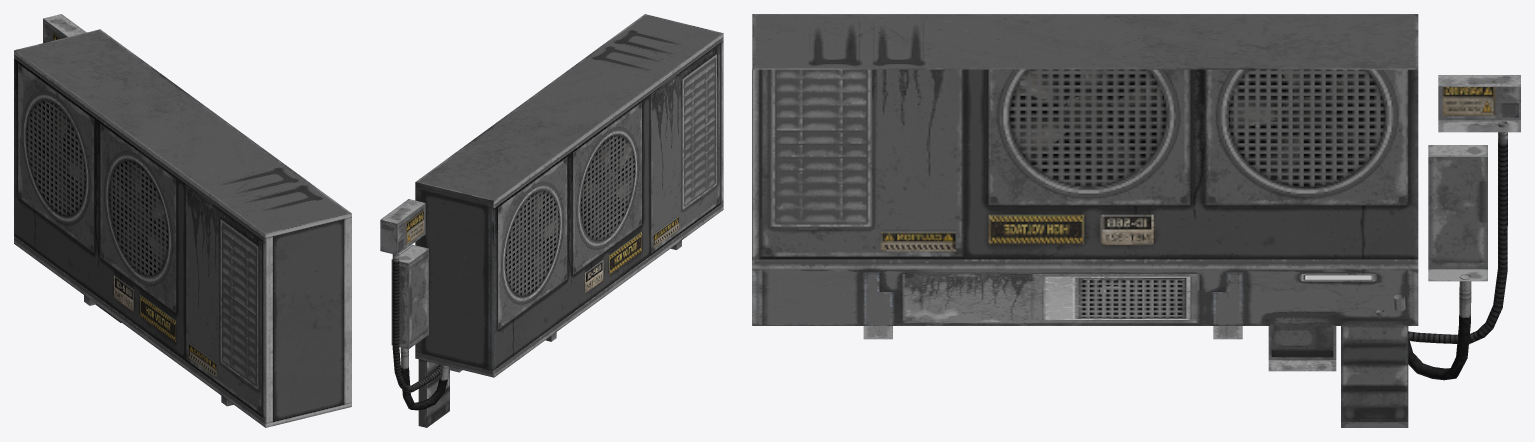
File: CP_Conditioner_07.fbx
The picture shows the model from 3 angles, left to right: view 1: azimuth 30°, elevation 25°; view 2: azimuth 150°, elevation 25°; view 3: azimuth 270°, elevation 25°; orthographic projection. The views are drawn at different scales.
Visible parts, largest first — view 1: CP_Conditioner_07_LOD0; view 2: CP_Conditioner_07_LOD0; view 3: CP_Conditioner_07_LOD0.
Part boxes in pixels (<box>): CP_Conditioner_07_LOD0: <box>14,14,351,427</box>; CP_Conditioner_07_LOD0: <box>380,14,723,427</box>; CP_Conditioner_07_LOD0: <box>752,14,1520,427</box>.
Size of what is drawn, in the model's own units: 52.76 by 157 by 306.
